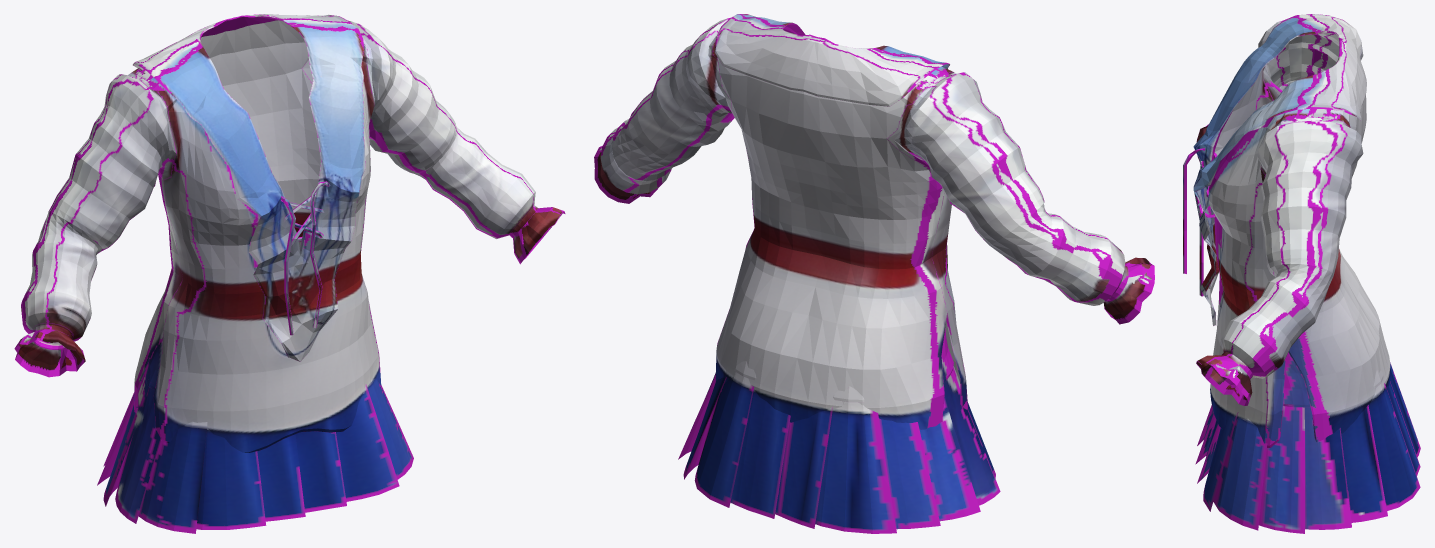
3 views of the same model, side by side, from view 1: azimuth 30°, elevation 25°; view 2: azimuth 150°, elevation 25°; view 3: azimuth 270°, elevation 25° (orthographic). The views are drawn at different scales.
Size of the model in its own units: 1.18 by 0.912 by 0.4648.
1 material, 1 textured.
